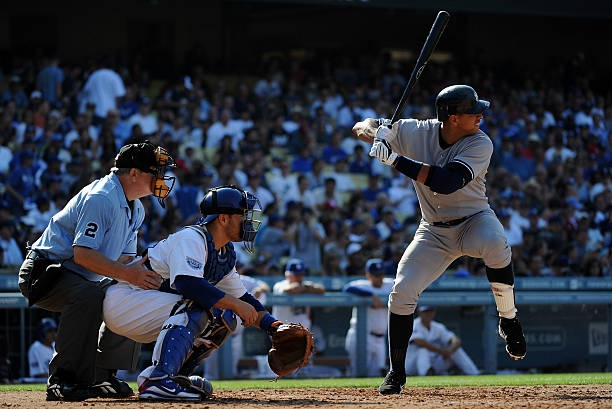bita: (390, 11, 450, 128)
